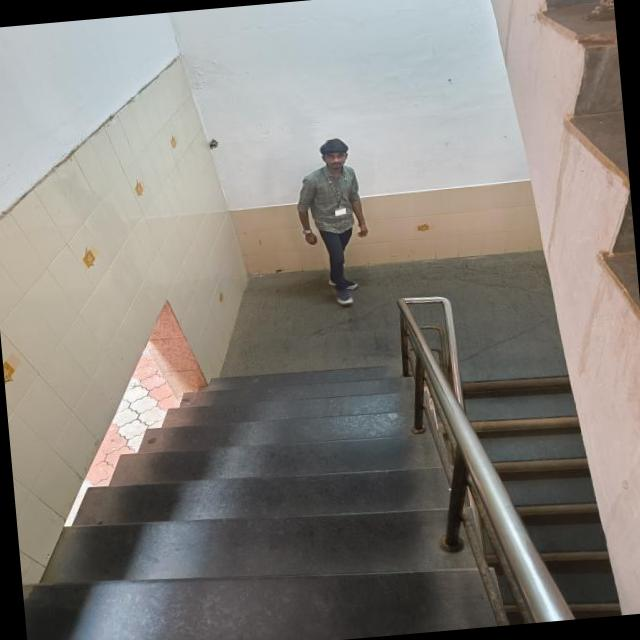id_card: (326, 169, 353, 220)
